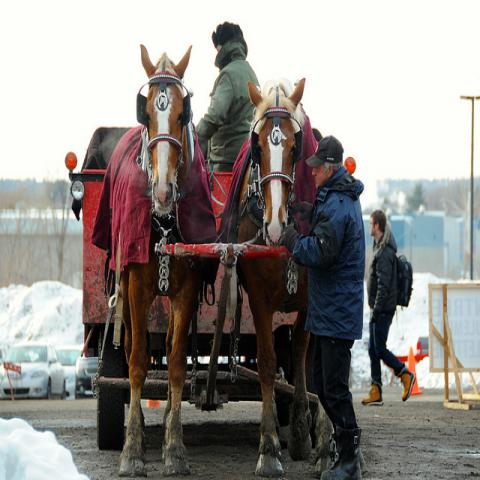car: (0, 344, 68, 398), (52, 347, 86, 396), (74, 354, 98, 400)
